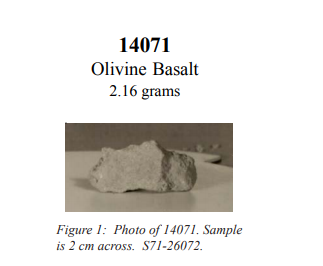Basalt: (70, 128, 202, 195)
